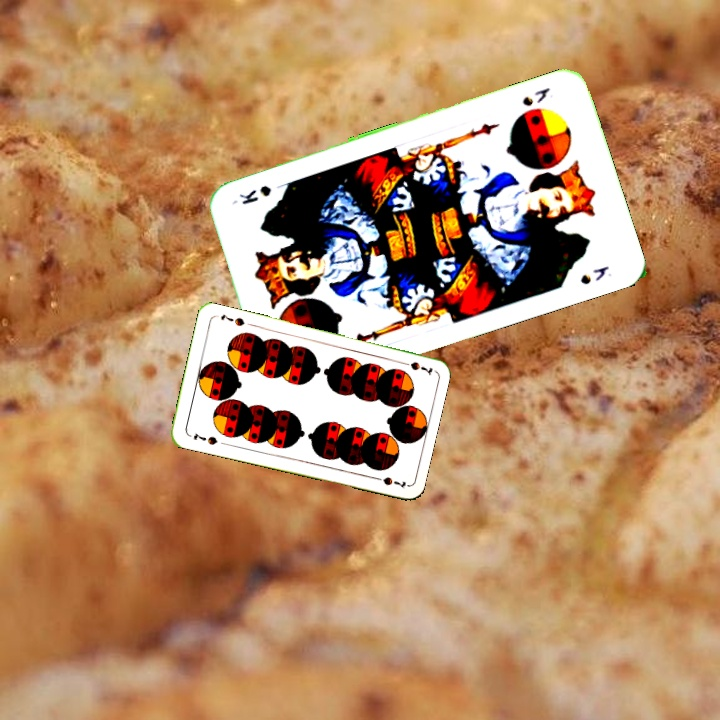S7: (395, 357, 435, 377), (189, 429, 220, 447)
SK: (518, 83, 553, 109)
